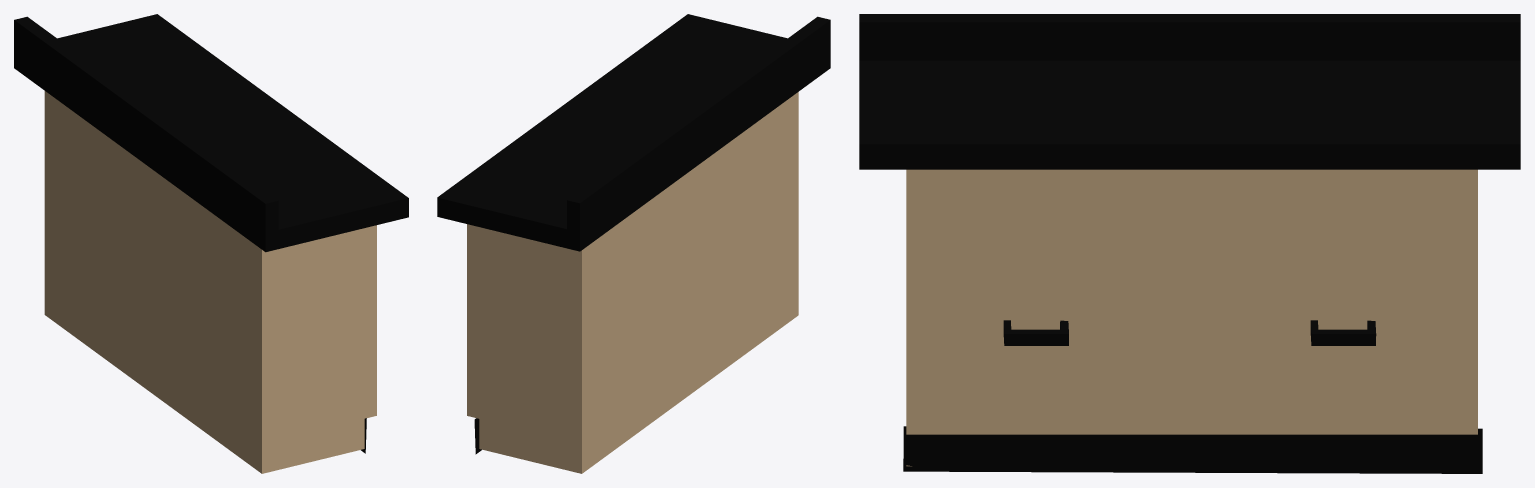
Rendered from counter.glb.
3 renders of one model, left to right at view 1: azimuth 30°, elevation 25°; view 2: azimuth 150°, elevation 25°; view 3: azimuth 270°, elevation 25°, orthographic. The views are drawn at different scales.
Parts seen in each view (by area): view 1: Cube-col, Plane-col; view 2: Cube-col, Plane-col; view 3: Cube-col, Plane-col, Plane.001-col, Cube.002-col, Cube.001-col.
Boxes of the visible parts, x1,y1,x2,y2 form: Cube-col: (44, 91, 376, 473); Plane-col: (14, 14, 408, 252); Cube-col: (467, 92, 798, 473); Plane-col: (437, 14, 830, 251); Cube-col: (906, 169, 1477, 466); Plane-col: (859, 14, 1520, 169); Plane.001-col: (903, 426, 1482, 473); Cube.002-col: (1310, 320, 1376, 345); Cube.001-col: (1003, 320, 1068, 345).
Size of the model in its own units: 4.88 by 9.04 by 14.13.
